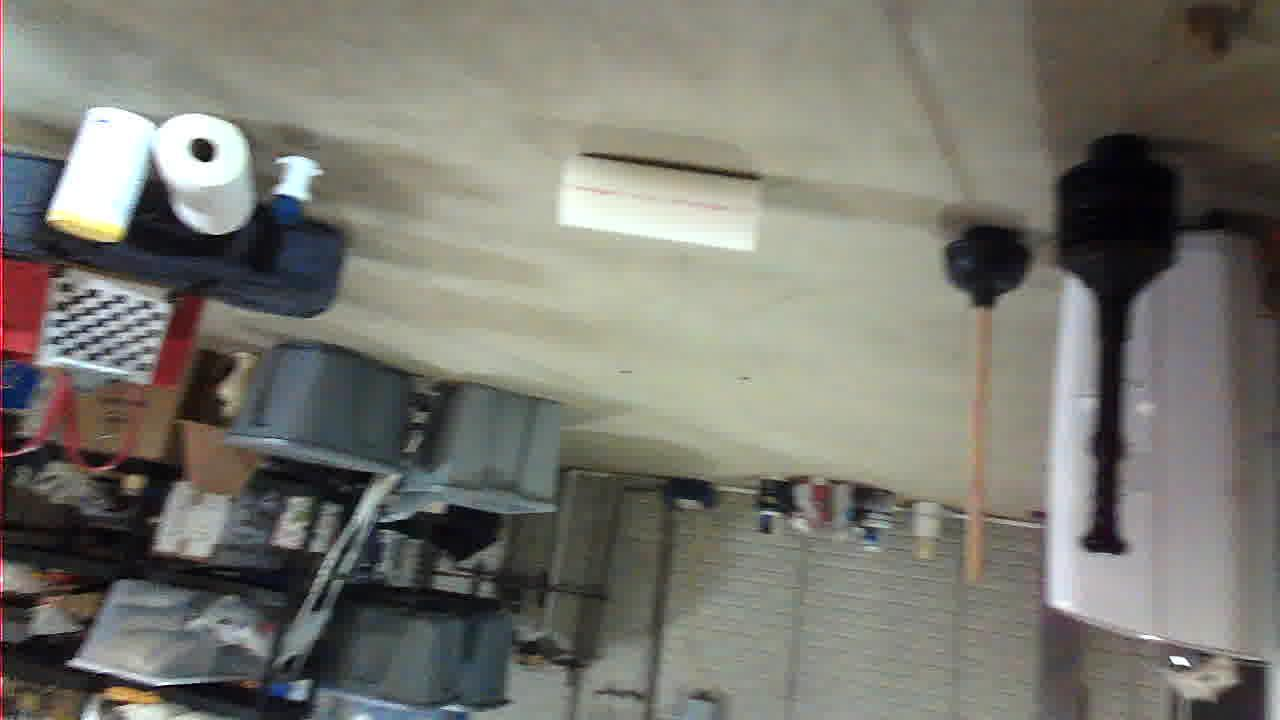coral: (523, 469, 722, 564)
